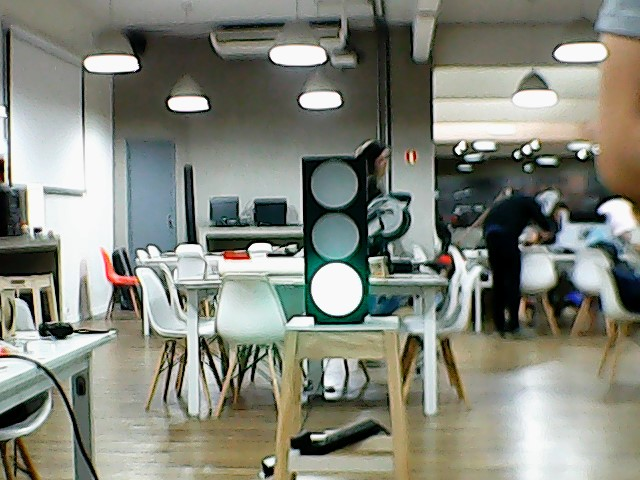verde: (294, 155, 374, 325)
